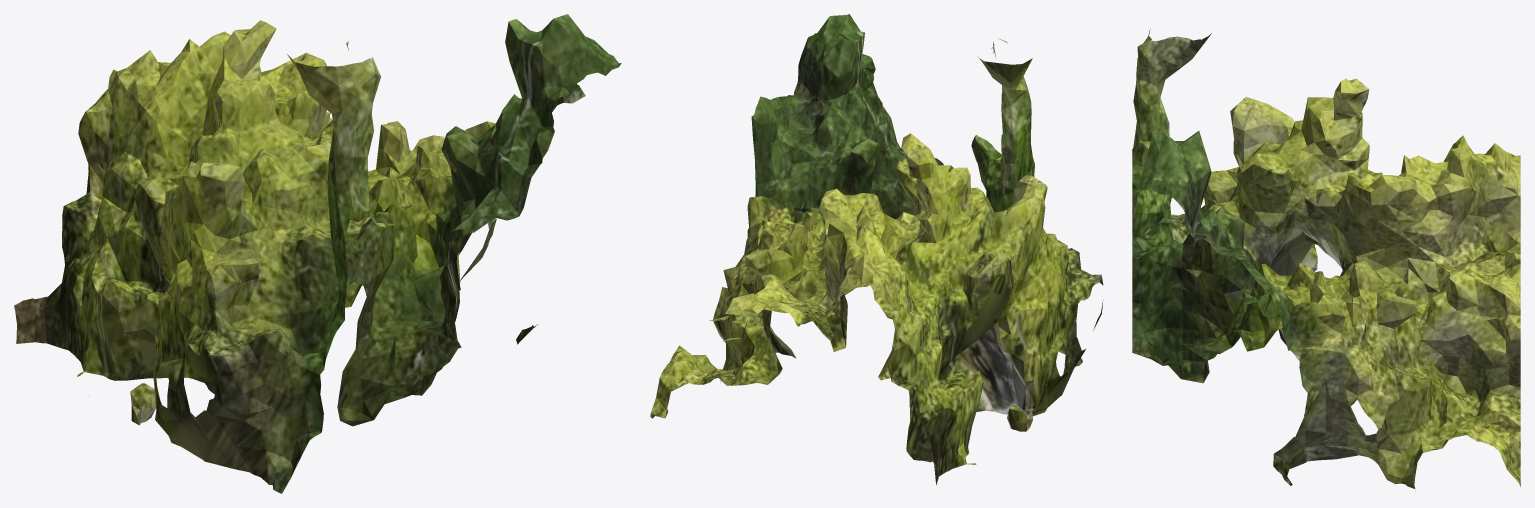
The picture shows the model from 3 angles, left to right: view 1: azimuth 30°, elevation 25°; view 2: azimuth 150°, elevation 25°; view 3: azimuth 270°, elevation 25°; orthographic projection. The views are drawn at different scales.
Size of the model in its own units: 5.9 by 5.9 by 5.9.
Materials: 7 (7 with a texture image).
